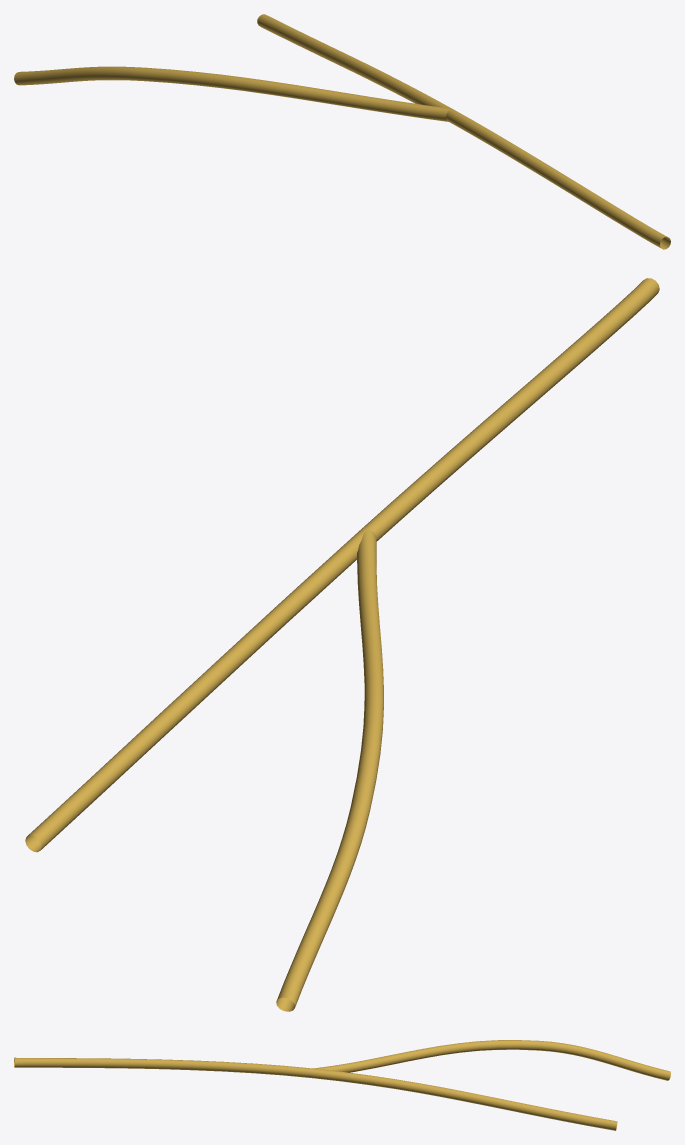
3 views of the same model, one above another, from view 1: azimuth 30°, elevation 25°; view 2: azimuth 150°, elevation 25°; view 3: azimuth 270°, elevation 25° (orthographic). The views are drawn at different scales.
Parts seen in each view (by area): view 1: 右侧尺神经指掌侧总神经; view 2: 右侧尺神经指掌侧总神经; view 3: 右侧尺神经指掌侧总神经.
Part boxes in pixels (x1,y1,x2,y2): 右侧尺神经指掌侧总神经: [14, 14, 670, 249]; 右侧尺神经指掌侧总神经: [25, 278, 659, 1011]; 右侧尺神经指掌侧总神经: [14, 1040, 670, 1130].
Bounding box in the file's own units: 0.0276 × 0.0152 × 0.0977.
